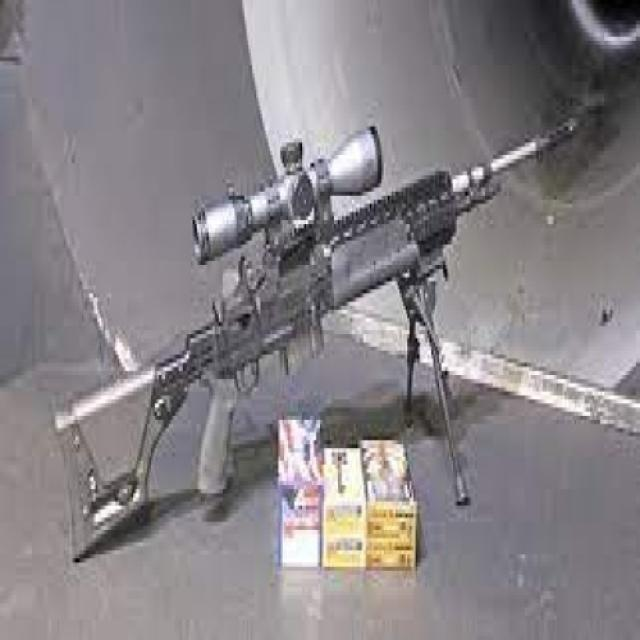Gun: (45, 106, 627, 524)
